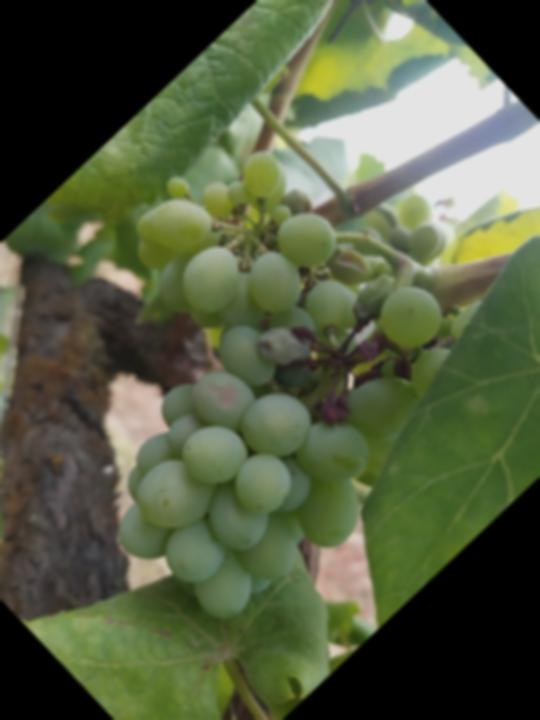grape: (0, 106, 518, 661)
